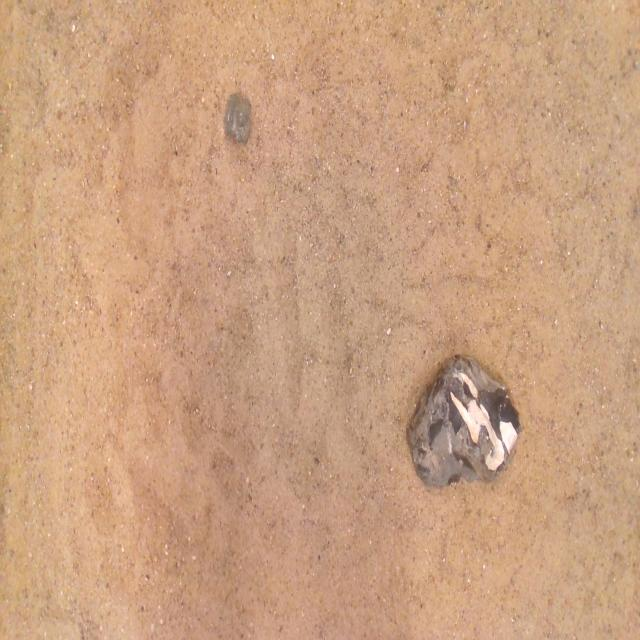rock: (408, 356, 520, 485), (224, 94, 251, 143)
